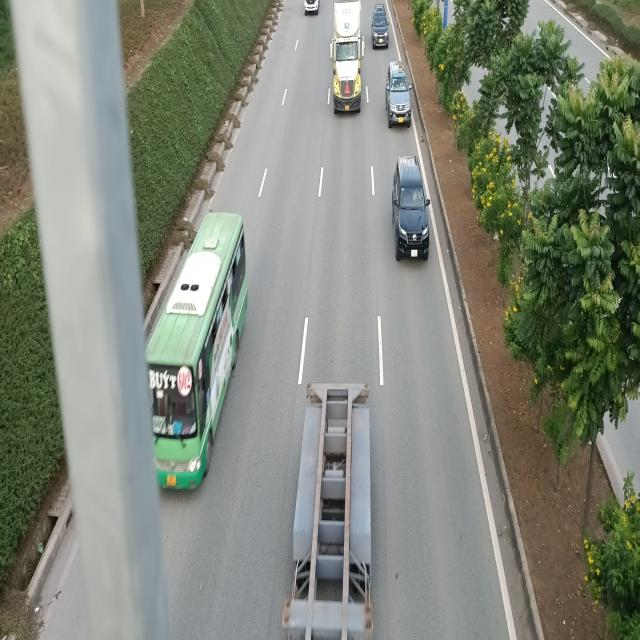car: (394, 155, 433, 261), (384, 61, 411, 128), (371, 3, 389, 47)
coach: (141, 218, 246, 497)
container: (281, 382, 374, 640), (332, 2, 364, 115)
